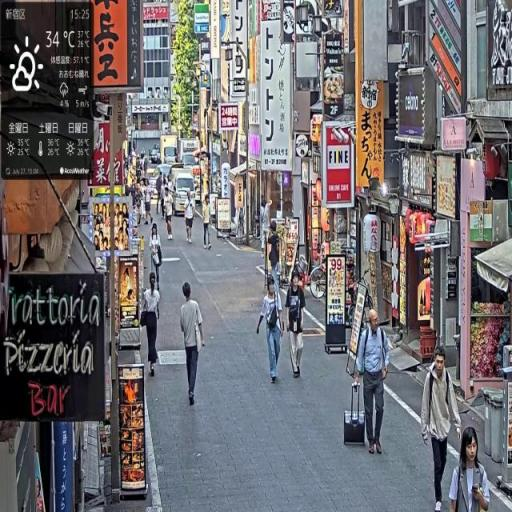person: (421, 345, 464, 512), (353, 306, 393, 455), (448, 425, 492, 512), (180, 280, 207, 408), (257, 276, 285, 386), (287, 265, 308, 380), (140, 273, 163, 376), (151, 222, 164, 295), (184, 192, 196, 245), (165, 191, 176, 244), (203, 195, 213, 249)
